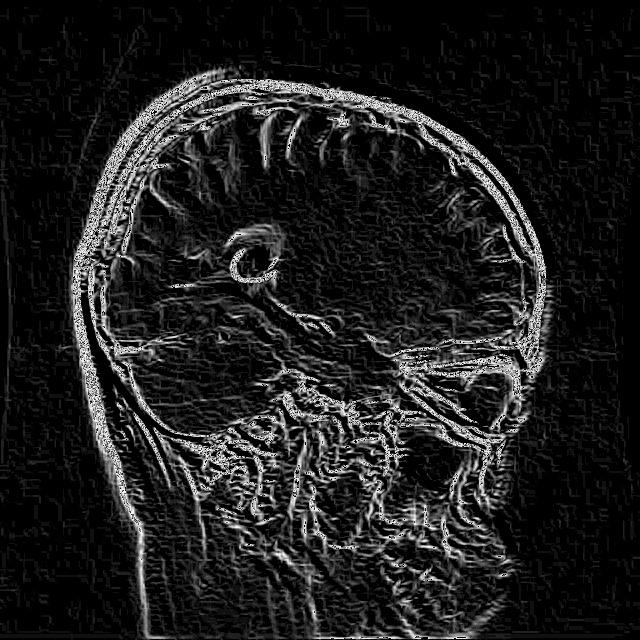Brain-Tumor: (209, 202, 304, 299)
eye: (401, 336, 532, 452)
